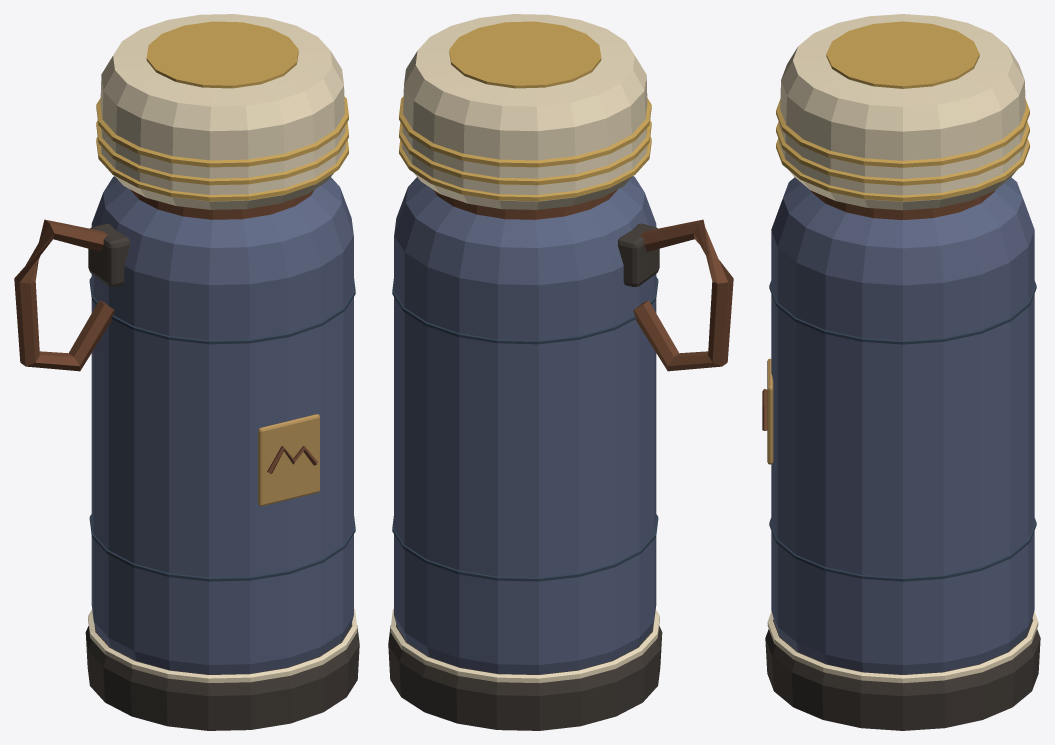
Rendered from 019_insulated_thermos_v01.glb.
The picture shows the model from 3 angles, left to right: view 1: azimuth 30°, elevation 25°; view 2: azimuth 150°, elevation 25°; view 3: azimuth 270°, elevation 25°; orthographic projection.
Visible parts, largest first — view 1: Thermos insulated matte shell, Thermos removable drinking cup cap, Thermos protective rubber boot, Cap inset top medallion, Thermos short open woven carry loop, Thermos brass maker badge, Thermos base seam, Cap concentric screw grip ridge.002, Cap concentric screw grip ridge.001, Cap concentric screw grip ridge, Thermos strap anchor, Thermos neck gasket (+2 smaller); view 2: Thermos insulated matte shell, Thermos removable drinking cup cap, Thermos protective rubber boot, Cap inset top medallion, Thermos short open woven carry loop, Thermos base seam, Cap concentric screw grip ridge.002, Cap concentric screw grip ridge.001, Cap concentric screw grip ridge, Thermos strap anchor, Thermos neck gasket, Insulating shell rolled seam (+1 smaller); view 3: Thermos insulated matte shell, Thermos removable drinking cup cap, Thermos protective rubber boot, Cap inset top medallion, Thermos base seam, Cap concentric screw grip ridge.002, Cap concentric screw grip ridge.001, Cap concentric screw grip ridge, Thermos neck gasket, Insulating shell rolled seam, Insulating shell rolled seam.001, Thermos brass maker badge.
Boxes of the visible parts, x1=… form: Thermos insulated matte shell: x1=91, y1=176, x2=353, y2=674; Thermos removable drinking cup cap: x1=100, y1=14, x2=345, y2=209; Thermos protective rubber boot: x1=85, y1=624, x2=359, y2=730; Cap inset top medallion: x1=146, y1=21, x2=298, y2=88; Thermos short open woven carry loop: x1=14, y1=219, x2=114, y2=371; Thermos brass maker badge: x1=258, y1=414, x2=319, y2=506; Thermos base seam: x1=88, y1=609, x2=357, y2=683; Cap concentric screw grip ridge.002: x1=96, y1=96, x2=348, y2=167; Cap concentric screw grip ridge.001: x1=96, y1=120, x2=348, y2=185; Cap concentric screw grip ridge: x1=96, y1=137, x2=348, y2=201; Thermos strap anchor: x1=88, y1=223, x2=129, y2=286; Thermos neck gasket: x1=130, y1=189, x2=314, y2=219; Thermos insulated matte shell: x1=394, y1=176, x2=656, y2=674; Thermos removable drinking cup cap: x1=402, y1=14, x2=647, y2=209; Thermos protective rubber boot: x1=388, y1=624, x2=662, y2=730; Cap inset top medallion: x1=449, y1=21, x2=601, y2=88; Thermos short open woven carry loop: x1=633, y1=219, x2=733, y2=371; Thermos base seam: x1=390, y1=609, x2=659, y2=683; Cap concentric screw grip ridge.002: x1=399, y1=96, x2=651, y2=167; Cap concentric screw grip ridge.001: x1=399, y1=120, x2=651, y2=185; Cap concentric screw grip ridge: x1=399, y1=137, x2=651, y2=201; Thermos strap anchor: x1=618, y1=223, x2=659, y2=286; Thermos neck gasket: x1=433, y1=189, x2=617, y2=219; Insulating shell rolled seam: x1=392, y1=514, x2=658, y2=581; Thermos insulated matte shell: x1=771, y1=177, x2=1034, y2=674; Thermos removable drinking cup cap: x1=779, y1=14, x2=1026, y2=210; Thermos protective rubber boot: x1=765, y1=619, x2=1040, y2=730; Cap inset top medallion: x1=826, y1=21, x2=979, y2=88; Thermos base seam: x1=767, y1=611, x2=1038, y2=683; Cap concentric screw grip ridge.002: x1=776, y1=98, x2=1029, y2=167; Cap concentric screw grip ridge.001: x1=776, y1=121, x2=1029, y2=185; Cap concentric screw grip ridge: x1=776, y1=138, x2=1029, y2=201; Thermos neck gasket: x1=811, y1=190, x2=994, y2=219; Insulating shell rolled seam: x1=769, y1=518, x2=1036, y2=581; Insulating shell rolled seam.001: x1=769, y1=281, x2=1036, y2=344; Thermos brass maker badge: x1=767, y1=358, x2=773, y2=464.
Bounding box in the file's own units: 0.1907 × 0.3518 × 0.1415.
